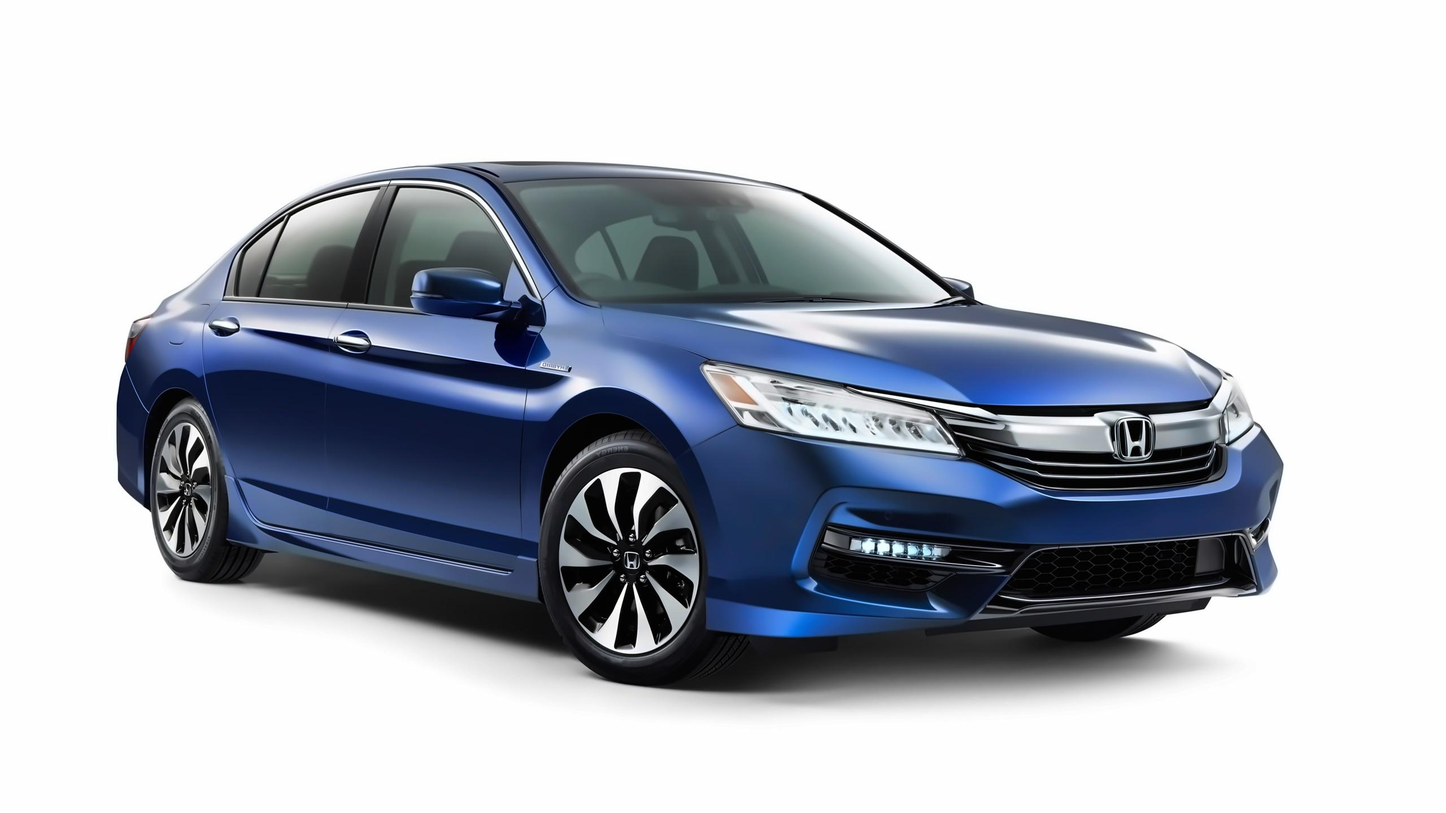Car hood: (609, 284, 1225, 417)
Driver-s door - -F-R-: (311, 136, 547, 612)
Fender - -F-R-: (520, 271, 742, 578)
Fender - -R-R-: (128, 226, 239, 463)
Front bumper: (675, 414, 1294, 652)
Headlight - -L-: (1207, 378, 1261, 450)
Headlight - -R-: (699, 360, 961, 456)
Passenger-s door - -R-R-: (188, 153, 396, 557)
Rear bumper: (105, 363, 155, 514)
Side bumper - -R-: (228, 484, 547, 604)
Side mirror - -R-: (403, 260, 535, 341)
